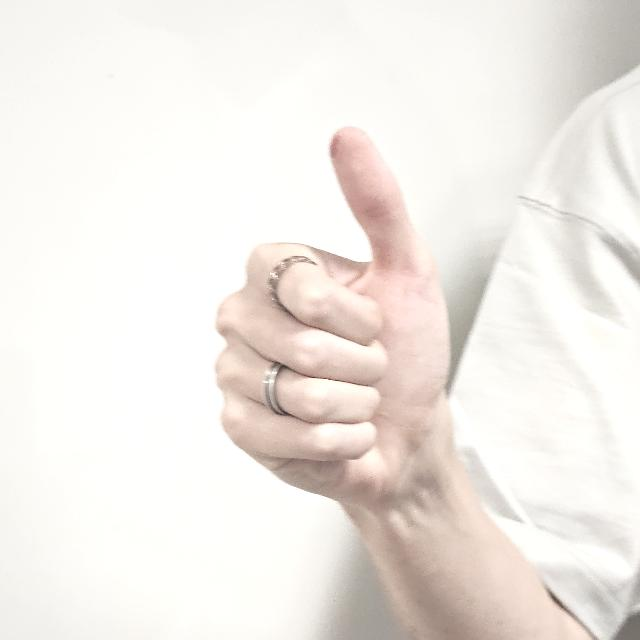Start: (208, 120, 478, 530)
